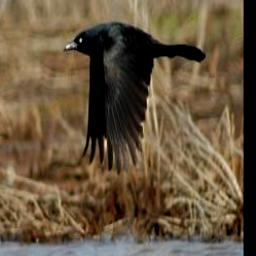Crow: (62, 19, 207, 175)
